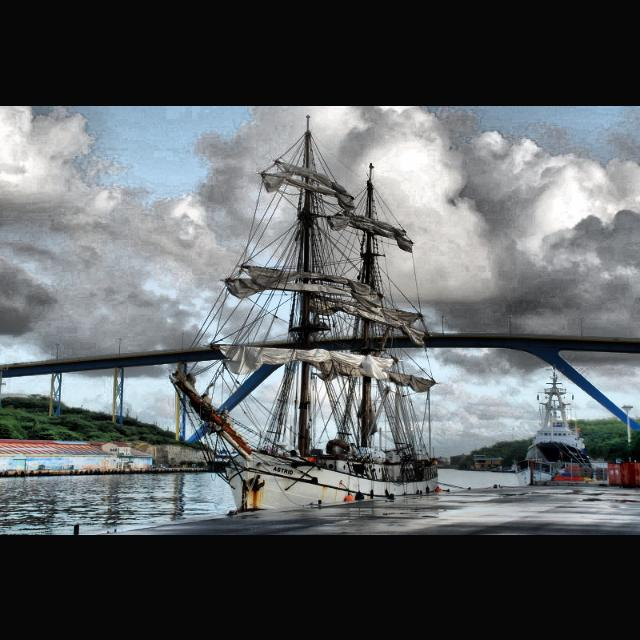sailing_vessel: (168, 112, 440, 514)
